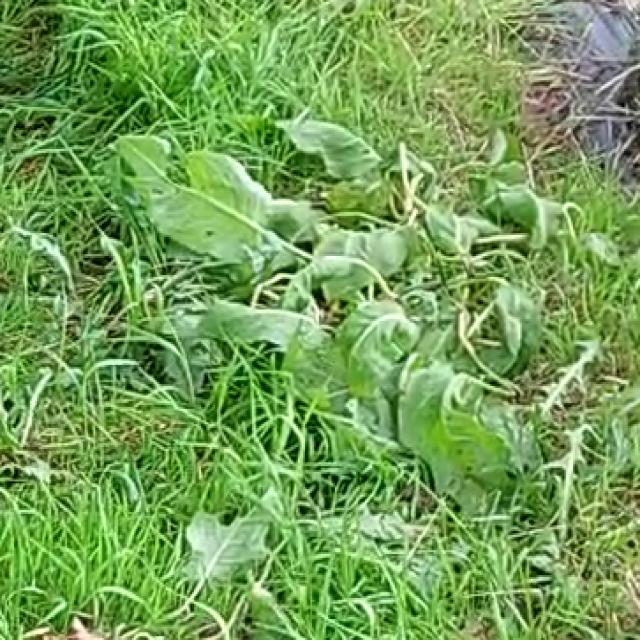organic waste: (49, 100, 636, 483)
